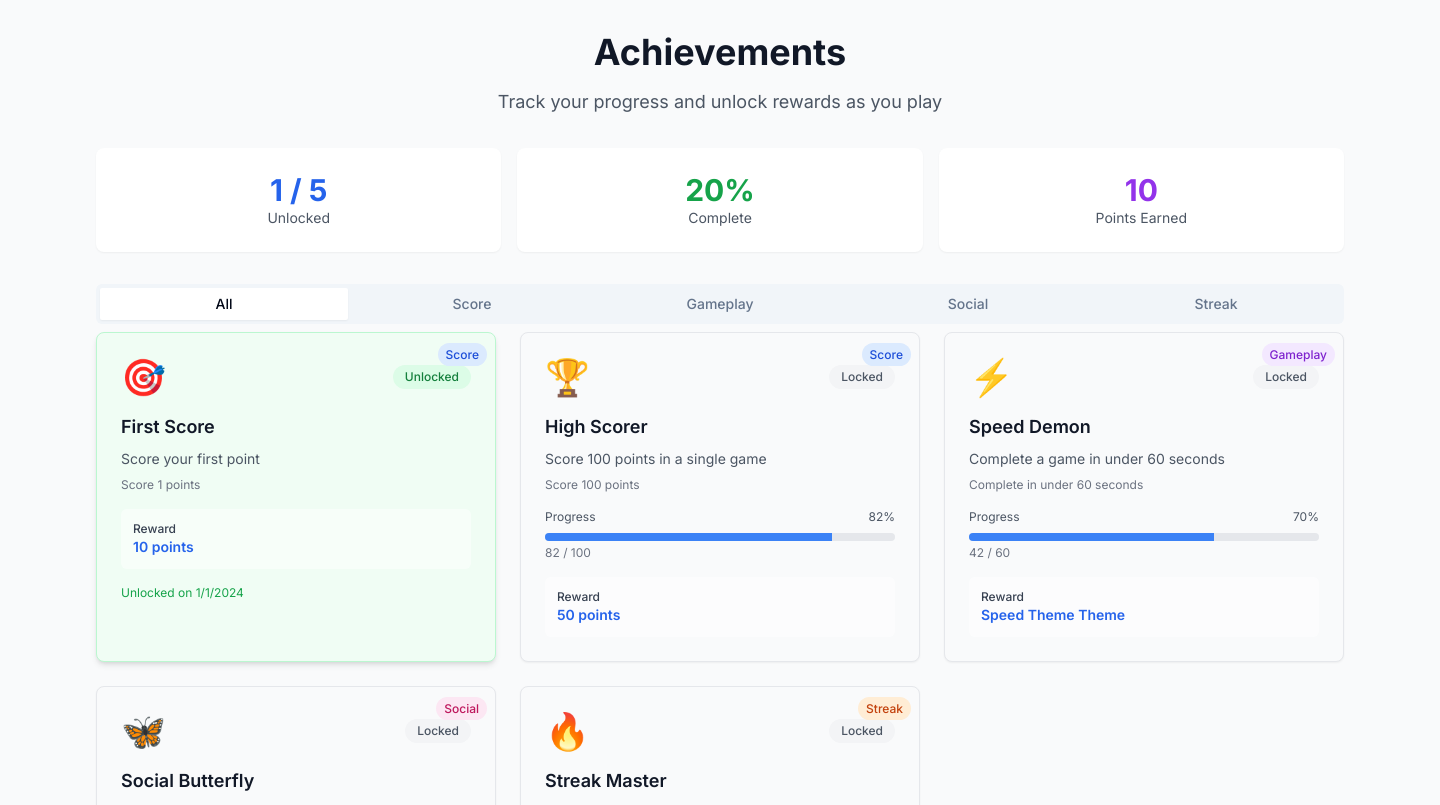
Scenario: AchievementsPage › Category Filtering › should filter achievements by score category
The image size is (1440, 805).
Expected: the heading "First Score" is shown, [121, 416, 215, 437]
Click the tab "Score" at (472,304), box [348, 288, 596, 320]
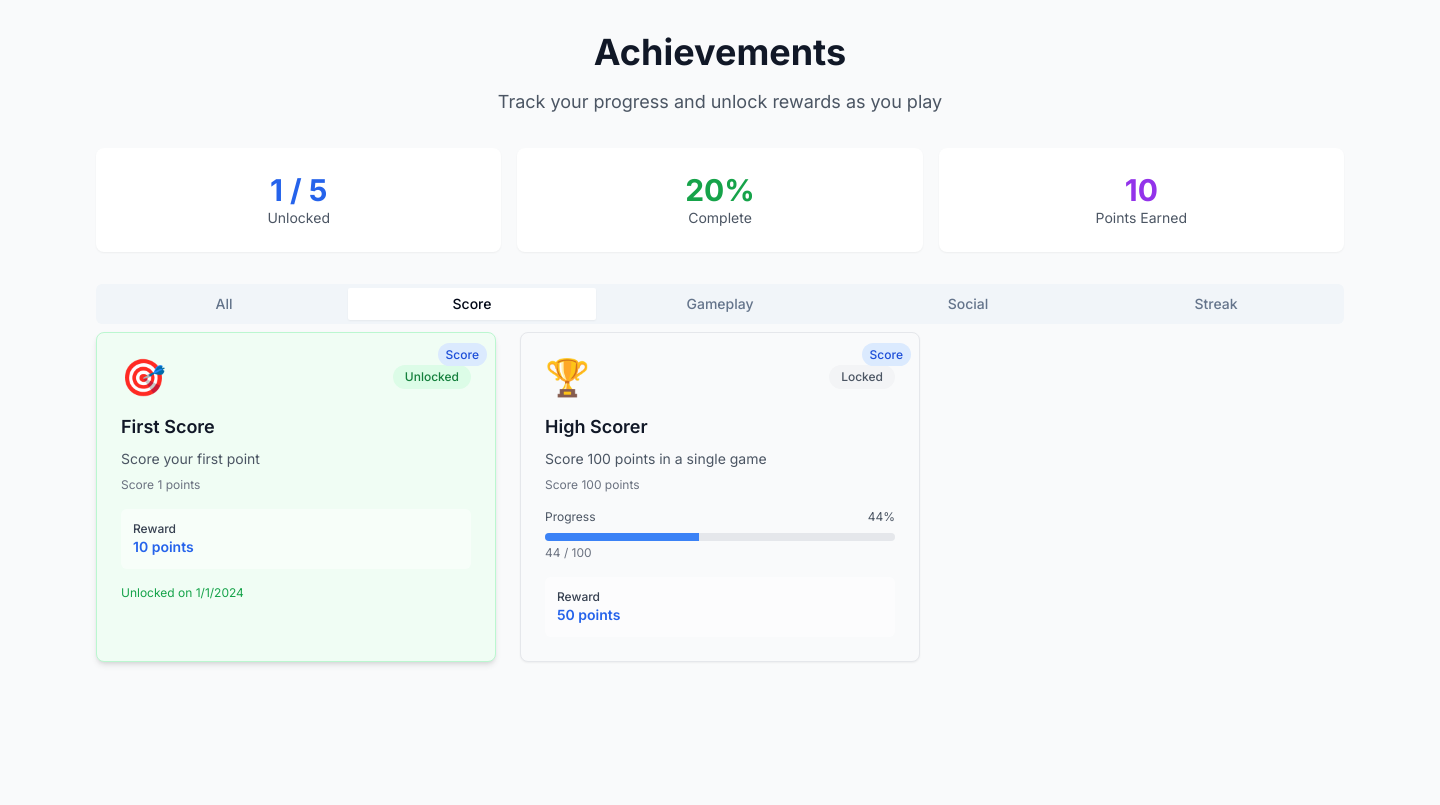
Expected: the heading "First Score" is shown, [121, 416, 215, 437]
Result: the heading "Speed Demon" is gone
